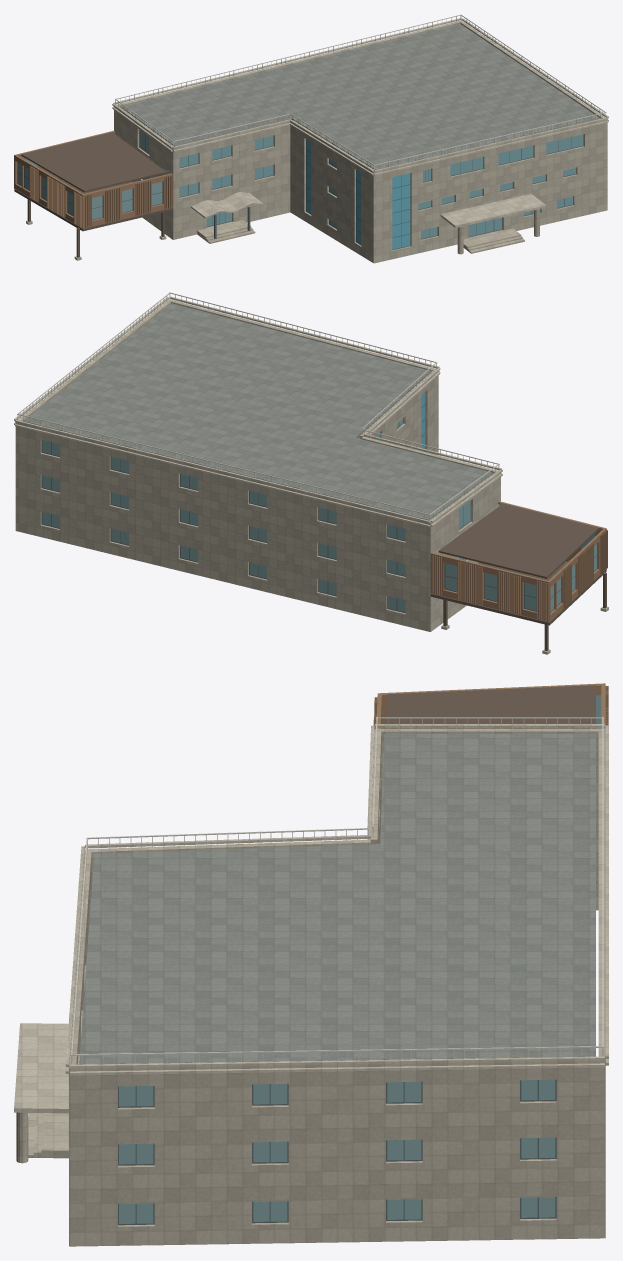
The picture shows the model from 3 angles, top to bottom: view 1: azimuth 30°, elevation 25°; view 2: azimuth 150°, elevation 25°; view 3: azimuth 270°, elevation 25°; orthographic projection. The views are drawn at different scales.
Parts seen in each view (by area): view 1: harding__roof, harding__stone, harding__trim, harding__steel, harding__wood, harding__glass, harding__drain, harding__archglass, harding__frame, harding__sideglass, harding__stair-main, harding__stair-courtyard (+2 smaller); view 2: harding__roof, harding__stone, harding__steel, harding__wood, harding__sideglass, harding__trim, harding__drain, harding__frame; view 3: harding__roof, harding__stone, harding__trim, harding__sideglass, harding__steel, harding__drain, harding__frame, harding__wood, harding__stair-main, harding__threshold-main.
Part boxes in pixels (left/top/right/bottom): harding__roof: left=120, top=23, right=600, bottom=169; harding__stone: left=26, top=20, right=607, bottom=263; harding__trim: left=112, top=18, right=608, bottom=227; harding__steel: left=14, top=132, right=172, bottom=257; harding__wood: left=14, top=130, right=172, bottom=228; harding__glass: left=179, top=134, right=583, bottom=238; harding__drain: left=115, top=14, right=606, bottom=170; harding__archglass: left=306, top=139, right=410, bottom=249; harding__frame: left=17, top=130, right=583, bottom=250; harding__sideglass: left=17, top=130, right=162, bottom=219; harding__stair-main: left=465, top=233, right=524, bottom=253; harding__stair-courtyard: left=204, top=225, right=255, bottom=243; harding__roof: left=23, top=303, right=492, bottom=520; harding__stone: left=15, top=299, right=608, bottom=654; harding__steel: left=430, top=502, right=606, bottom=650; harding__wood: left=430, top=502, right=607, bottom=621; harding__sideglass: left=42, top=440, right=596, bottom=612; harding__trim: left=14, top=296, right=502, bottom=527; harding__drain: left=17, top=292, right=499, bottom=520; harding__frame: left=41, top=392, right=597, bottom=613; harding__roof: left=79, top=733, right=595, bottom=1064; harding__stone: left=16, top=728, right=605, bottom=1246; harding__trim: left=14, top=724, right=608, bottom=1113; harding__sideglass: left=119, top=695, right=601, bottom=1223; harding__steel: left=386, top=685, right=595, bottom=728; harding__drain: left=70, top=717, right=604, bottom=1064; harding__frame: left=118, top=1079, right=556, bottom=1225; harding__wood: left=373, top=683, right=608, bottom=728; harding__stair-main: left=28, top=1113, right=51, bottom=1157; harding__threshold-main: left=49, top=1113, right=68, bottom=1158.
Bounding box in the file's own units: 58.9 × 12.07 × 33.99.
Materials: 10 (3 with a texture image).
